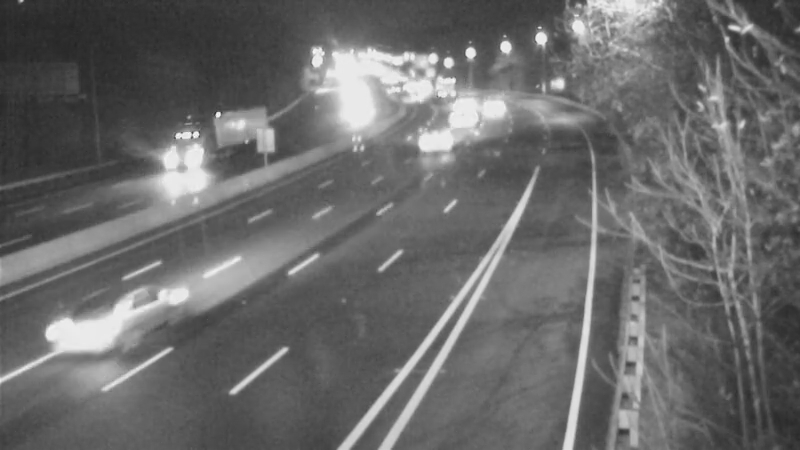vehicle: (32, 278, 142, 388), (149, 118, 229, 198), (421, 64, 471, 114), (433, 80, 483, 130), (468, 82, 518, 132), (447, 89, 497, 139), (403, 118, 453, 168)
